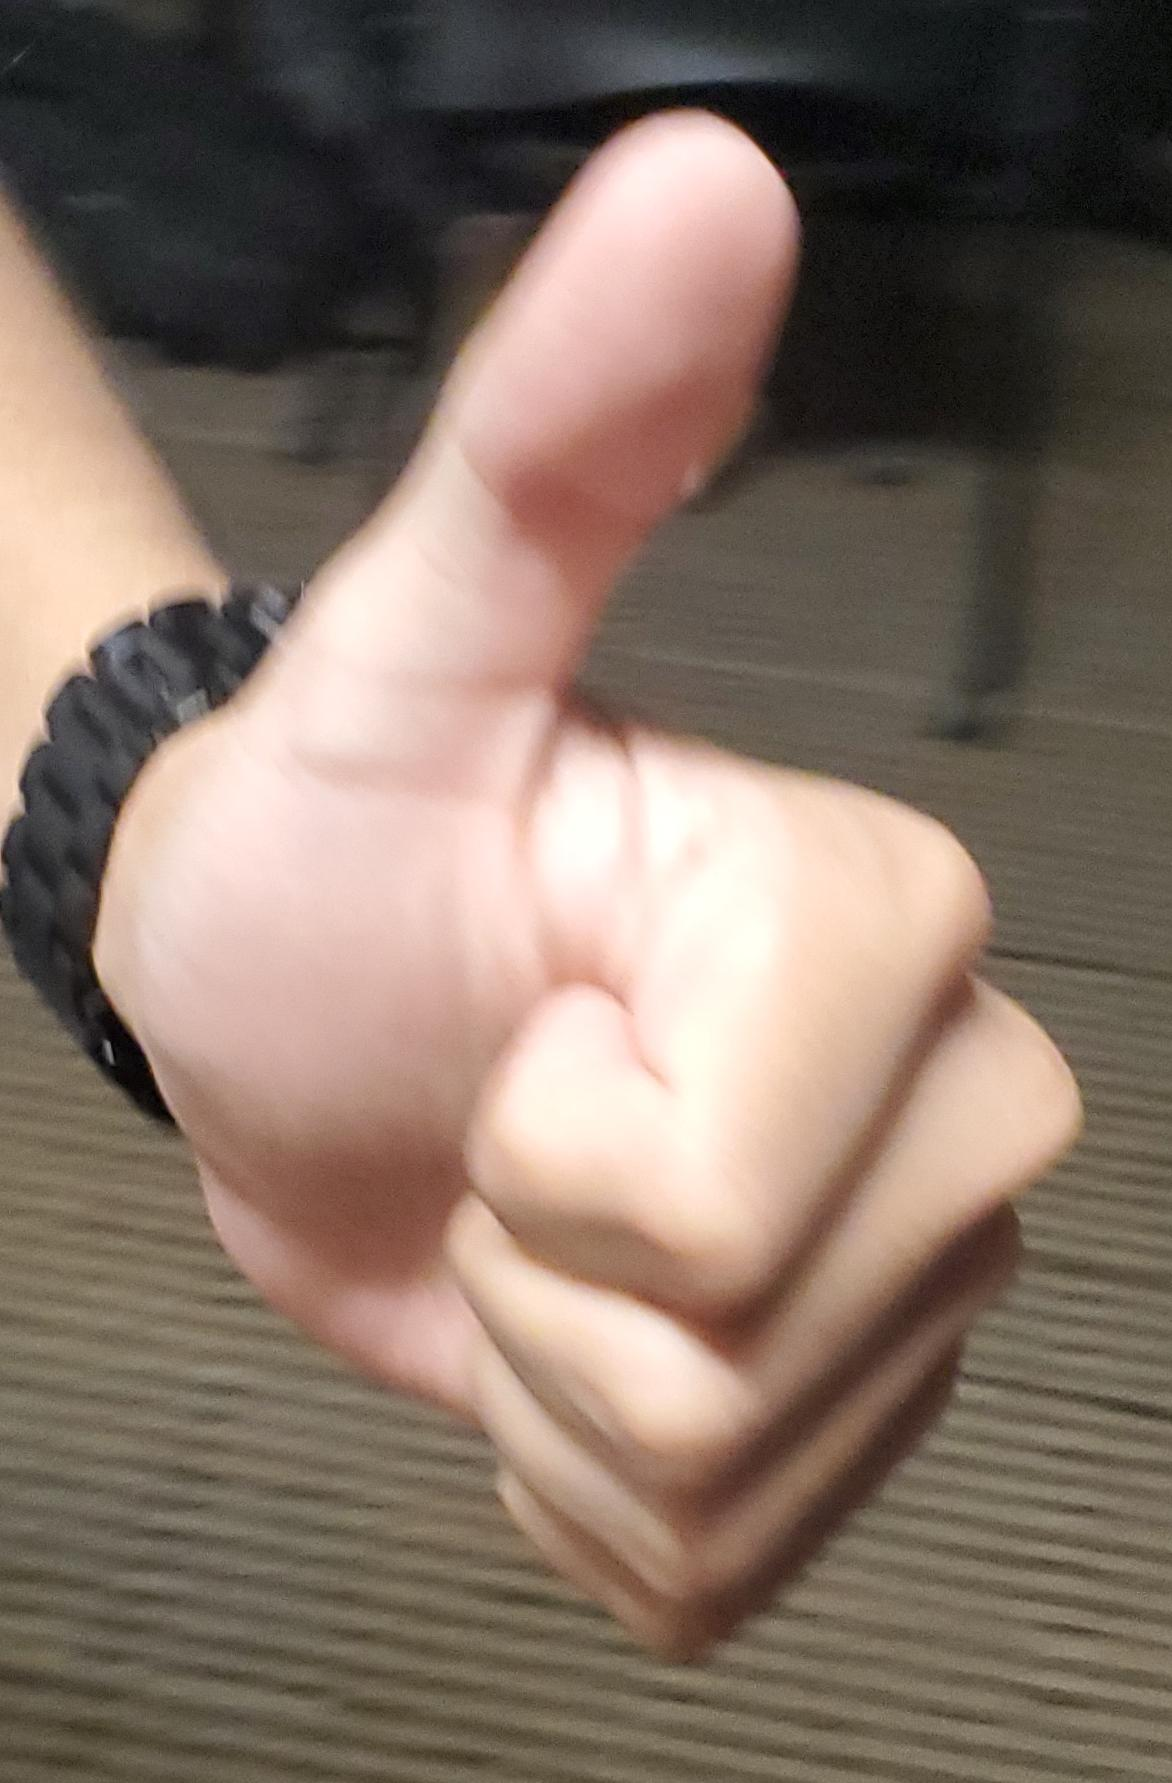up: (0, 1, 1172, 1783)
